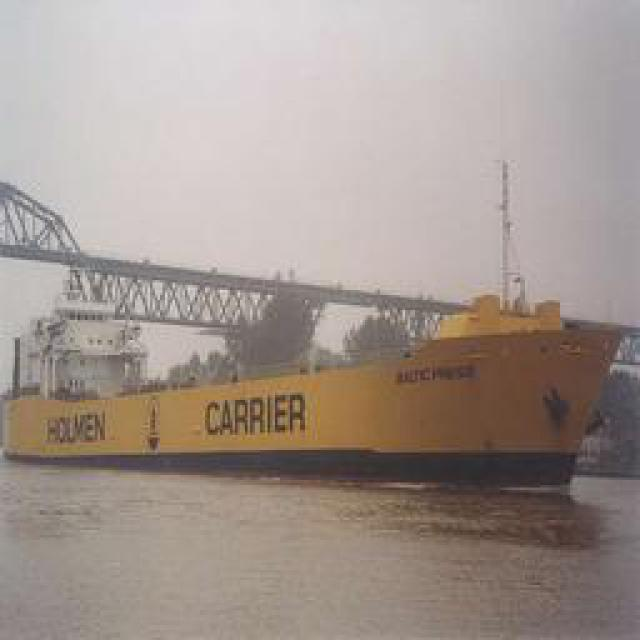Ship: (6, 251, 624, 474)
